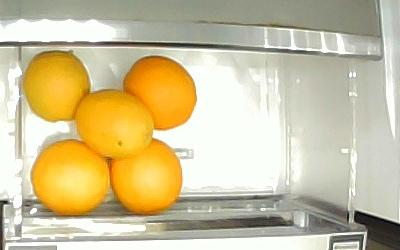orange: (28, 138, 111, 216), (74, 86, 155, 160), (123, 54, 196, 131), (110, 137, 182, 214), (23, 49, 91, 123)
